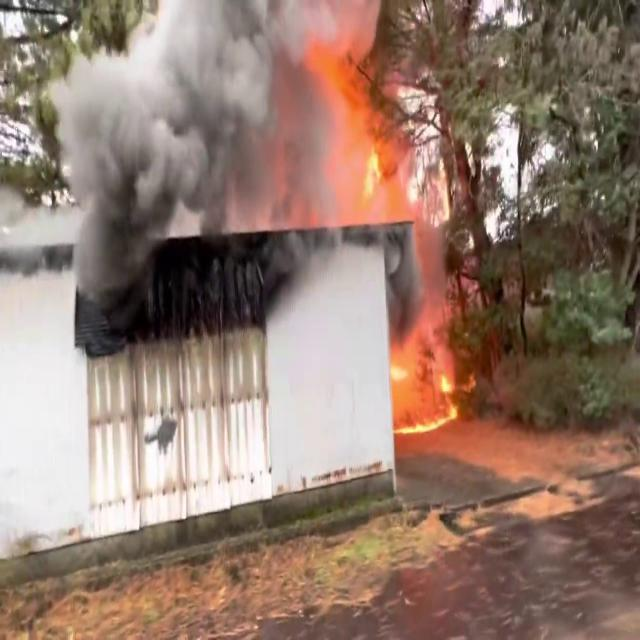Fire: (303, 5, 423, 227), (382, 325, 457, 435)
Smoke: (60, 0, 308, 330)
